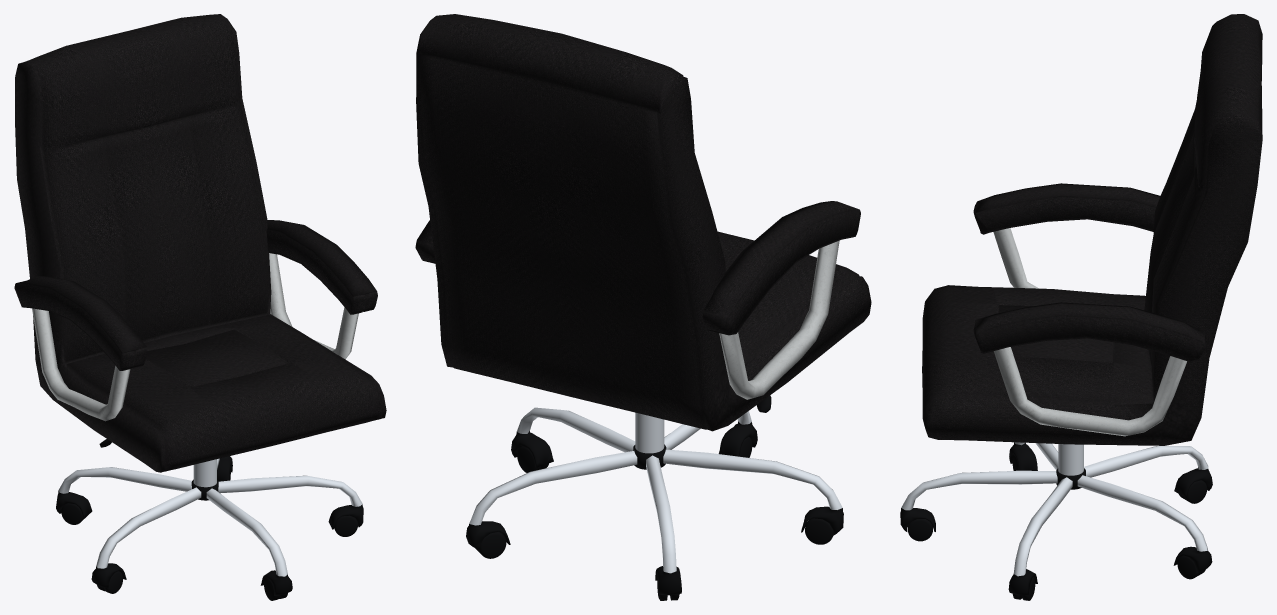
Rendered from Chair1.fbx.
3 renders of one model, left to right at view 1: azimuth 30°, elevation 25°; view 2: azimuth 150°, elevation 25°; view 3: azimuth 270°, elevation 25°, orthographic. The views are drawn at different scales.
Visible parts, largest first — view 1: Seat and backrest, Arm-Leather, Arm-Metal, Chair Foot 5, Chair Foot 3, Chair Foot 2, Chair Foot 1, Circle.005, Circle.011, Circle.004, Circle.001, Chair base; view 2: Seat and backrest, Arm-Leather, Arm-Metal, Chair Foot 2, Chair Foot 4, Chair Foot 5, Chair Foot 3, Circle.011, Circle.004, Circle.010, Chair base, Circle.001 (+2 smaller); view 3: Seat and backrest, Arm-Leather, Arm-Metal, Chair Foot 1, Chair Foot 4, Chair Foot 3, Chair Foot 5, Circle.005, Circle.001, Circle.010, Chair base, Circle.011 (+1 smaller).
Boxes of the visible parts, bbox=[...] form: Seat and backrest: bbox=[15, 14, 386, 472]; Arm-Leather: bbox=[14, 220, 377, 370]; Arm-Metal: bbox=[32, 253, 358, 421]; Chair Foot 5: bbox=[218, 475, 362, 506]; Chair Foot 3: bbox=[58, 467, 191, 493]; Chair Foot 2: bbox=[96, 487, 201, 568]; Chair Foot 1: bbox=[206, 488, 287, 576]; Circle.005: bbox=[56, 490, 92, 524]; Circle.011: bbox=[328, 504, 363, 536]; Circle.004: bbox=[91, 563, 126, 593]; Circle.001: bbox=[260, 570, 292, 600]; Chair base: bbox=[193, 459, 216, 487]; Seat and backrest: bbox=[416, 14, 871, 431]; Arm-Leather: bbox=[415, 201, 860, 335]; Arm-Metal: bbox=[719, 240, 839, 399]; Chair Foot 2: bbox=[663, 449, 842, 509]; Chair Foot 4: bbox=[469, 451, 637, 525]; Chair Foot 5: bbox=[517, 407, 635, 452]; Chair Foot 3: bbox=[646, 455, 676, 573]; Circle.011: bbox=[511, 431, 553, 472]; Circle.004: bbox=[801, 506, 843, 544]; Circle.010: bbox=[466, 521, 510, 558]; Chair base: bbox=[635, 412, 664, 453]; Circle.001: bbox=[718, 421, 757, 457]; Seat and backrest: bbox=[922, 14, 1262, 445]; Arm-Leather: bbox=[973, 183, 1205, 361]; Arm-Metal: bbox=[993, 228, 1186, 436]; Chair Foot 1: bbox=[901, 470, 1057, 510]; Chair Foot 4: bbox=[1077, 475, 1207, 551]; Chair Foot 3: bbox=[1084, 445, 1208, 477]; Chair Foot 5: bbox=[1013, 477, 1072, 576]; Circle.005: bbox=[1174, 467, 1212, 503]; Circle.001: bbox=[900, 508, 935, 541]; Circle.010: bbox=[1173, 546, 1212, 579]; Chair base: bbox=[1058, 444, 1083, 475]; Circle.011: bbox=[1008, 569, 1037, 600].
Size of the model in its own units: 291 by 472 by 322.
Materials: 4 (4 with a texture image).
